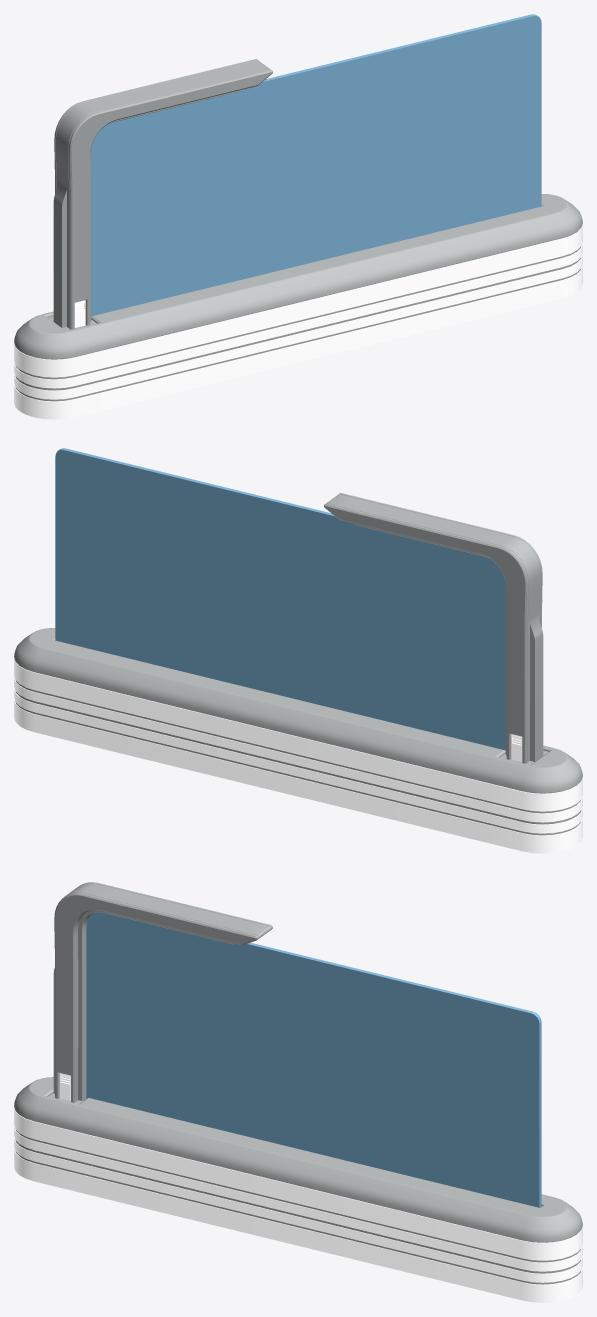
Rendered from nexus_street_sign.glb.
3 views of the same model, one above another, from view 1: azimuth 30°, elevation 25°; view 2: azimuth 150°, elevation 25°; view 3: azimuth 330°, elevation 25° (orthographic).
Visible parts, largest first — view 1: Street_Sign_1.001_1; view 2: Street_Sign_1.001_1; view 3: Street_Sign_1.001_1.
Part boxes in pixels (x1,y1,x2,y2): Street_Sign_1.001_1: (14,14,582,419); Street_Sign_1.001_1: (14,448,582,853); Street_Sign_1.001_1: (14,882,582,1302).
Bounding box in the file's own units: 4.18 × 2.06 × 0.5235.
Materials: 3 (1 with a texture image).
